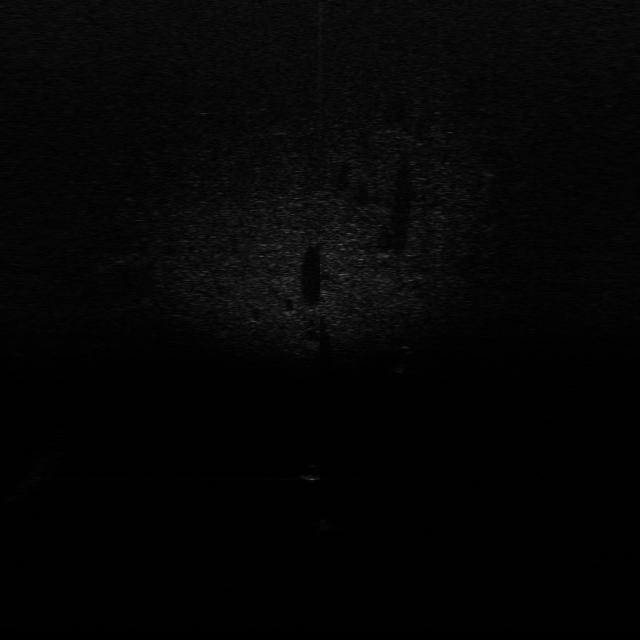ball: (296, 462, 326, 483)
square cage: (314, 515, 344, 533)
tyre: (392, 343, 419, 376)
